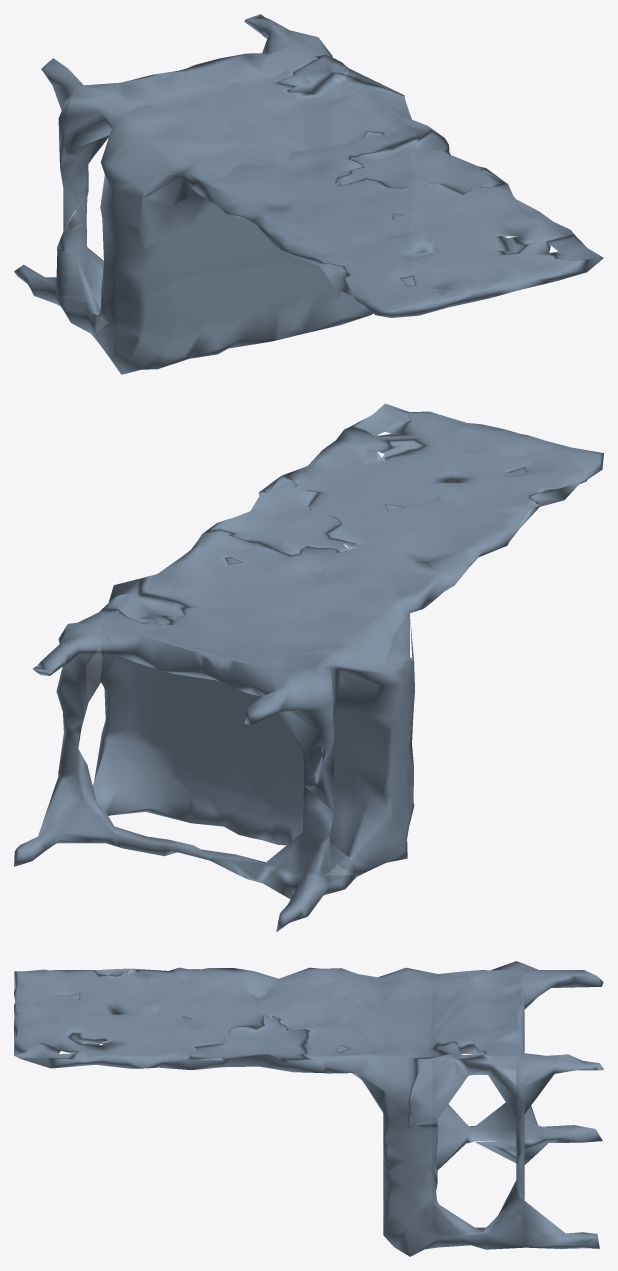
File: chair_0470_original.obj
The picture shows the model from 3 angles, top to bottom: view 1: azimuth 30°, elevation 25°; view 2: azimuth 150°, elevation 25°; view 3: azimuth 270°, elevation 25°; orthographic projection. The views are drawn at different scales.
Bounding box in the file's own units: 0.7694 × 0.5657 × 1.61.
